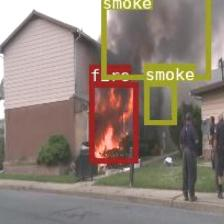fire: (89, 82, 137, 162)
smoke: (100, 0, 210, 79), (144, 81, 176, 123)
